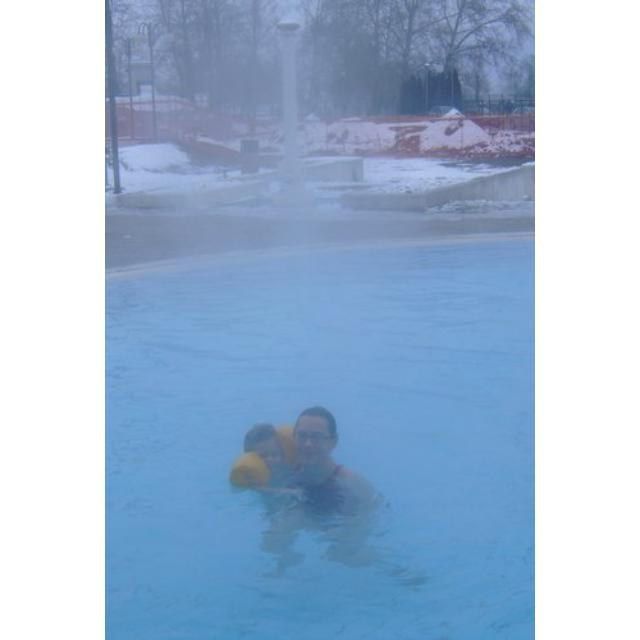human: (243, 399, 379, 570)
